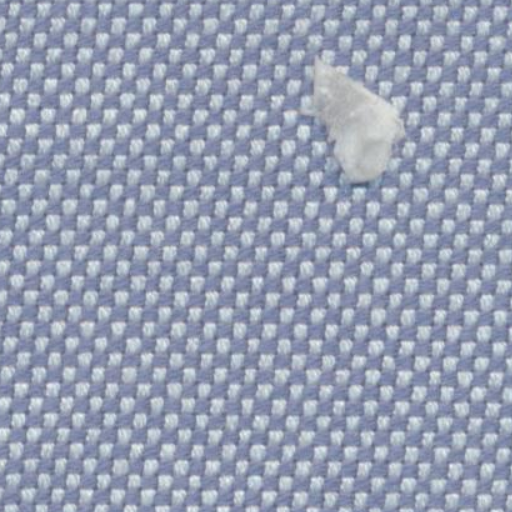MianQiu: (274, 48, 449, 230)
